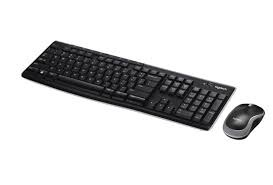keyboard: (17, 36, 222, 128)
mouse: (215, 98, 265, 139)
